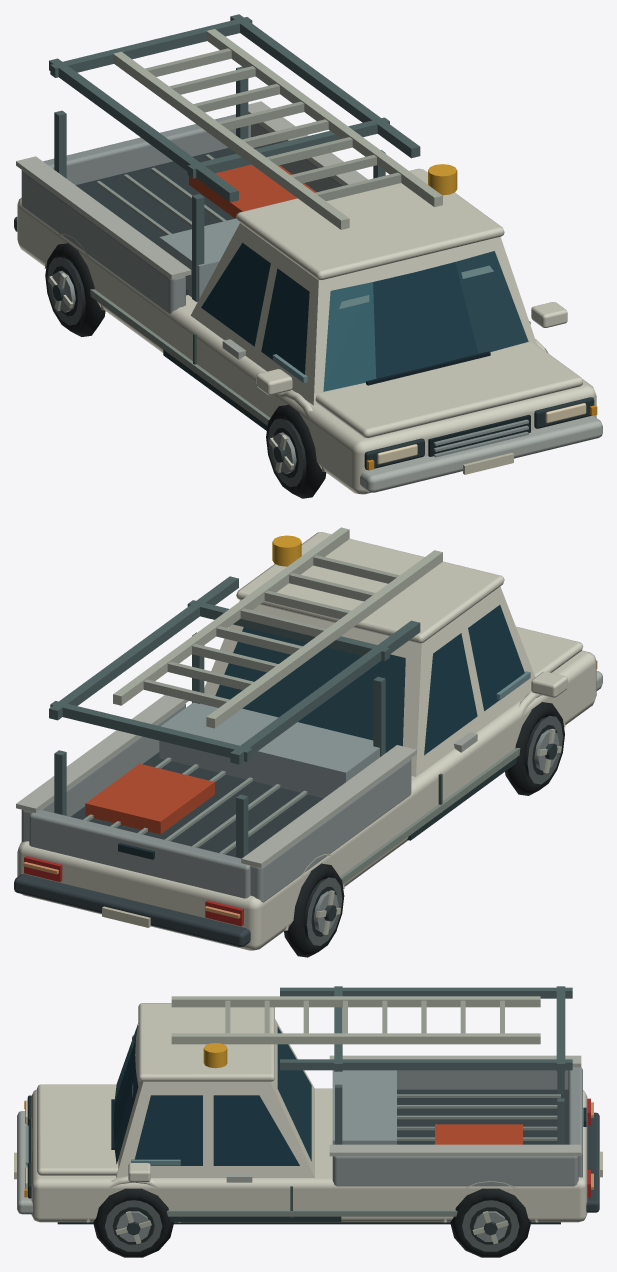
The model's file is ute.glb.
3 views of the same model, one above another, from view 1: azimuth 30°, elevation 25°; view 2: azimuth 150°, elevation 25°; view 3: azimuth 270°, elevation 25° (orthographic). The views are drawn at different scales.
Visible parts, largest first — view 1: ute_body; view 2: ute_body; view 3: ute_body.
Boxes of the visible parts, x1,y1,x2,y2 form: ute_body: [14, 14, 602, 498]; ute_body: [14, 527, 602, 957]; ute_body: [14, 986, 602, 1257].
Bounding box in the file's own units: 2.49 × 1.91 × 5.23.
